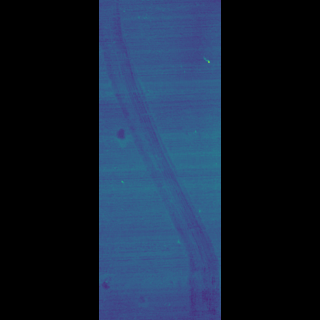Loch: (136, 10, 184, 317)
